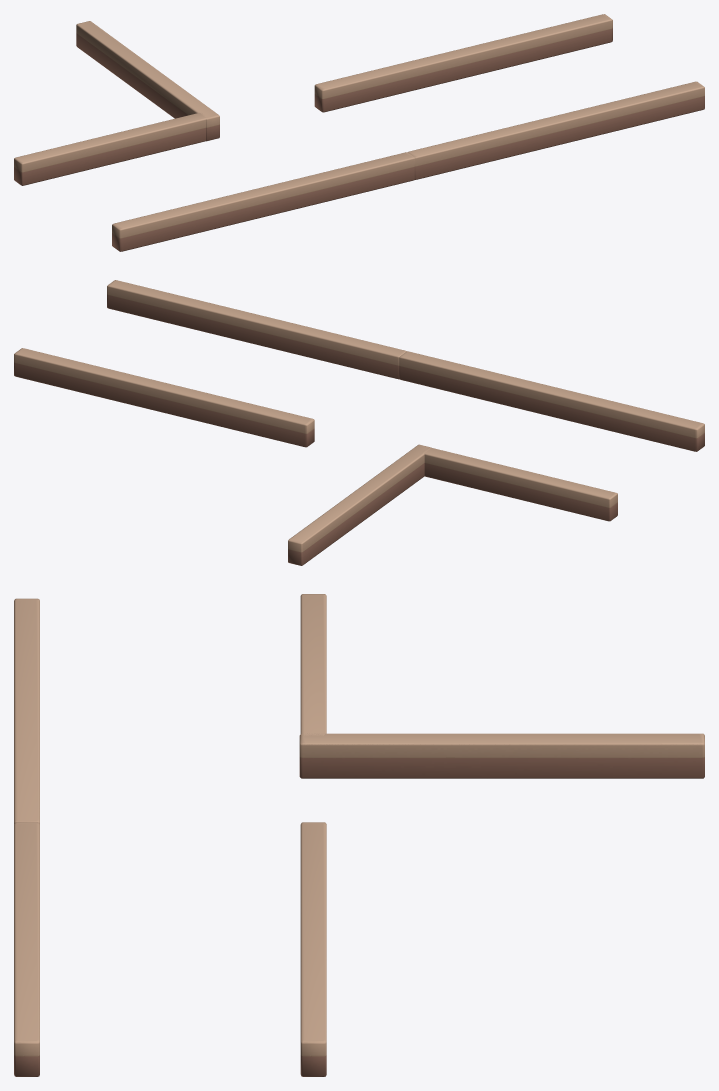
The model's file is Props.fbx.
3 views of the same model, one above another, from view 1: azimuth 30°, elevation 25°; view 2: azimuth 150°, elevation 25°; view 3: azimuth 270°, elevation 25° (orthographic). The views are drawn at different scales.
Visible parts, largest first — view 1: Box20-3_1 (2), Box20-3_1, Box20-3_1 (1), Box20-3_1 (3), Box20-3_1 (4); view 2: Box20-3_1 (2), Box20-3_1, Box20-3_1 (1), Box20-3_1 (3), Box20-3_1 (4); view 3: Box20-3_1 (4), Box20-3_1, Box20-3_1 (1), Box20-3_1 (2), Box20-3_1 (3).
Boxes of the visible parts, x1,y1,x2,y2 form: Box20-3_1 (2): (112, 152, 415, 251); Box20-3_1: (314, 14, 612, 112); Box20-3_1 (1): (408, 81, 704, 179); Box20-3_1 (3): (14, 113, 206, 185); Box20-3_1 (4): (76, 21, 219, 141); Box20-3_1 (2): (399, 351, 704, 451); Box20-3_1: (14, 348, 314, 447); Box20-3_1 (1): (107, 280, 406, 379); Box20-3_1 (3): (422, 447, 617, 521); Box20-3_1 (4): (288, 444, 431, 565); Box20-3_1 (4): (299, 733, 704, 778); Box20-3_1: (300, 822, 326, 1076); Box20-3_1 (1): (14, 822, 39, 1076); Box20-3_1 (2): (14, 598, 39, 823); Box20-3_1 (3): (300, 594, 326, 735).
Size of the model in its own units: 40.65 by 1.5 by 26.44.
1 material, 1 textured.
